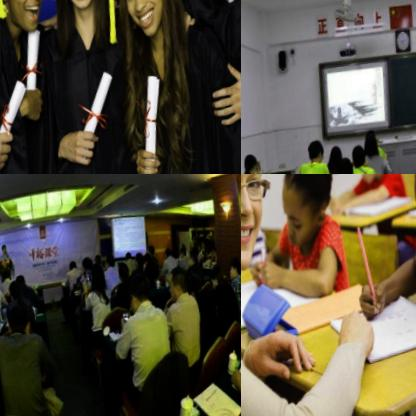head: (273, 174, 341, 249), (103, 0, 186, 56), (0, 0, 53, 40), (46, 0, 116, 25), (5, 298, 37, 339), (127, 274, 157, 316), (165, 267, 193, 305), (306, 136, 329, 170), (186, 270, 205, 300), (350, 174, 390, 187), (91, 263, 108, 293), (350, 146, 368, 174), (208, 264, 227, 290), (7, 279, 27, 303), (327, 143, 345, 169), (335, 156, 360, 174), (241, 150, 259, 174), (363, 129, 380, 154), (227, 260, 241, 284), (117, 262, 132, 284), (15, 271, 28, 290), (147, 243, 159, 263), (177, 243, 188, 261), (104, 255, 117, 270), (68, 258, 81, 273), (162, 247, 175, 262), (142, 253, 154, 269), (93, 254, 105, 269), (81, 257, 93, 272), (134, 254, 145, 270), (208, 246, 218, 262), (188, 253, 197, 267), (0, 242, 9, 256), (125, 251, 135, 262), (196, 241, 203, 253), (238, 251, 241, 276)
